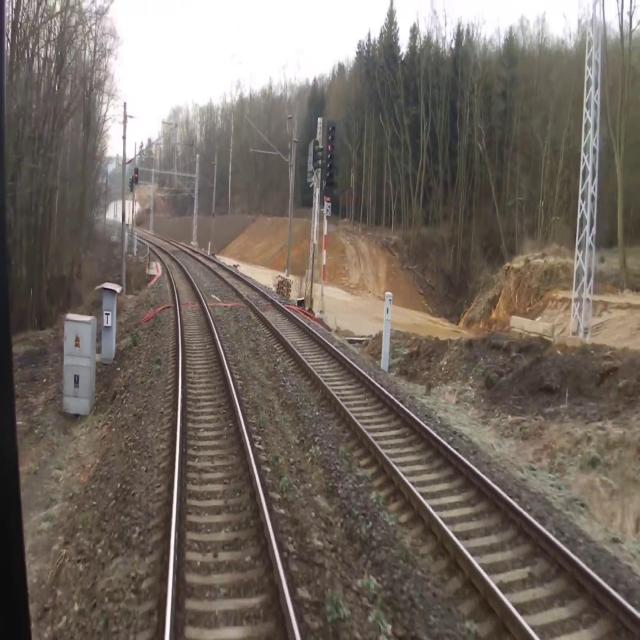rail-track: (166, 239, 640, 639), (136, 235, 295, 639)
